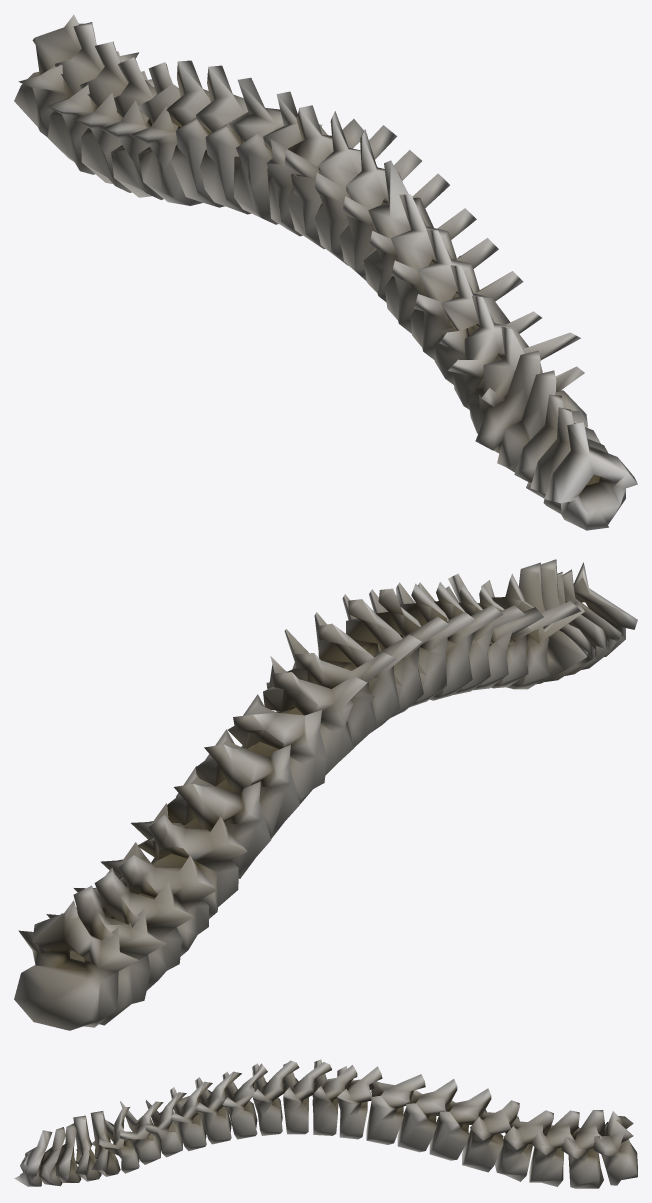
Rendered from animals-animalparts-skeleton_v16.glb.
3 renders of one model, top to bottom at view 1: azimuth 30°, elevation 25°; view 2: azimuth 150°, elevation 25°; view 3: azimuth 270°, elevation 25°, orthographic. The views are drawn at different scales.
Visible parts, largest first — view 1: Skeleton_v16; view 2: Skeleton_v16; view 3: Skeleton_v16.
Boxes of the visible parts, x1,y1,x2,y2 form: Skeleton_v16: [14, 14, 637, 530]; Skeleton_v16: [14, 559, 637, 1030]; Skeleton_v16: [14, 1059, 637, 1188].
Size of the model in its own units: 0.088 by 0.1406 by 0.6355.
